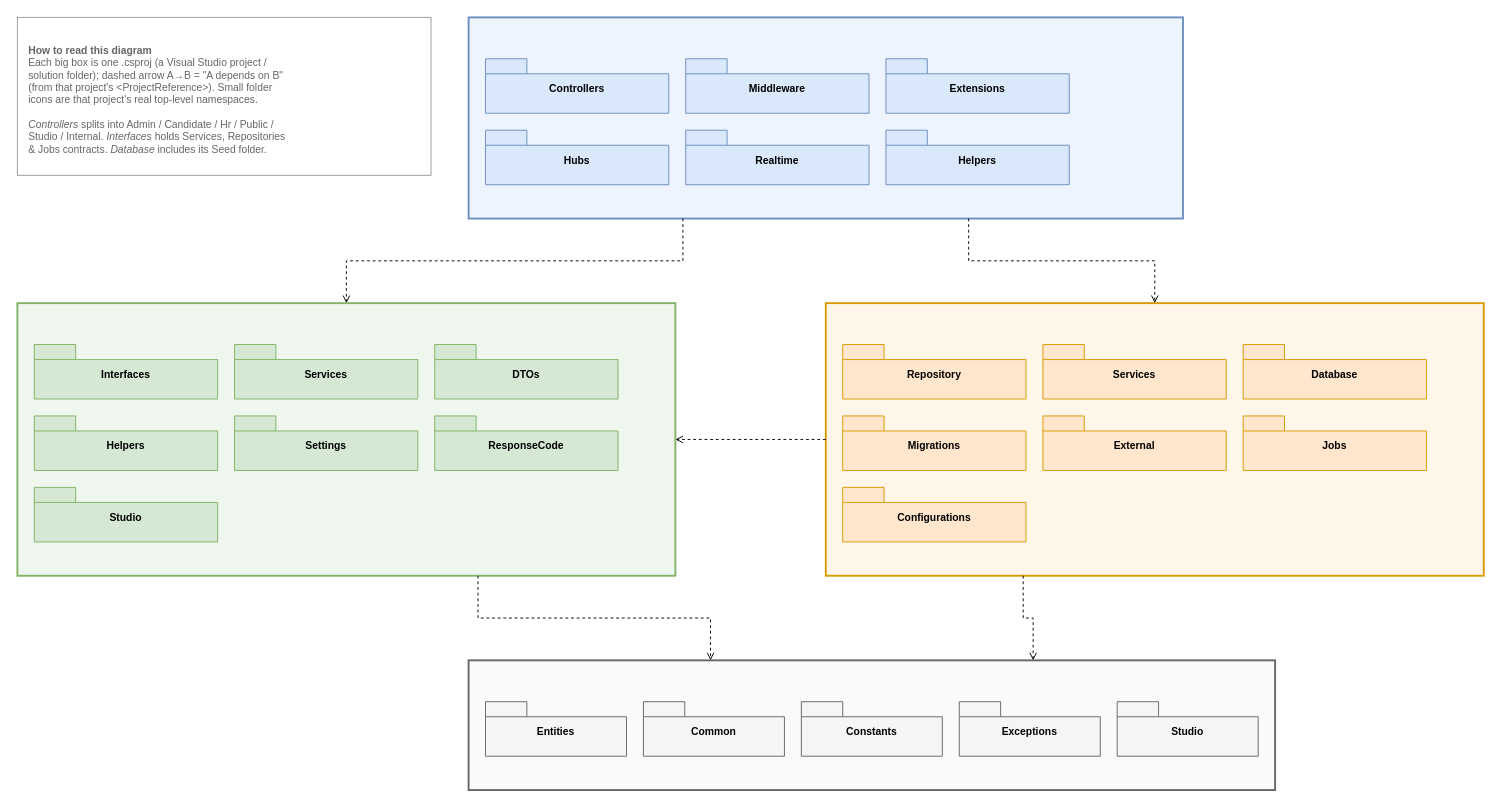
The diagram is 1500 pixels wide and 807 high, and some of its shapes have lost their labels. Here are the shapes that lost their labels. From the top down, the box of each, then its label:
(467, 16, 1183, 219): «project» WebAPI (Presentation)
(16, 302, 676, 576): «project» ApplicationLayer (Use cases)
(824, 302, 1484, 576): «project» InfrastructureLayer (Adapters)
(467, 659, 1276, 791): «project» DomainLayer (Core)
